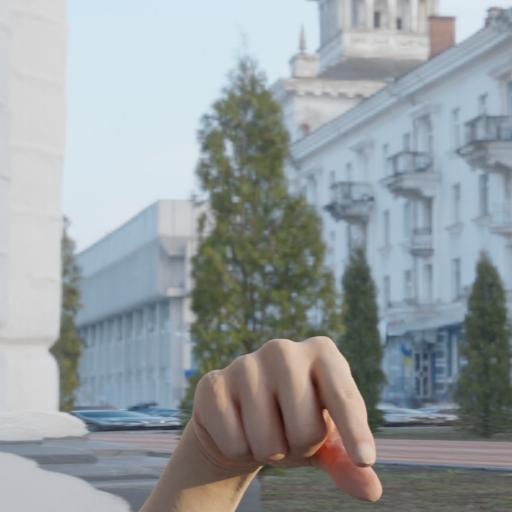Q: (188, 330, 387, 512)
